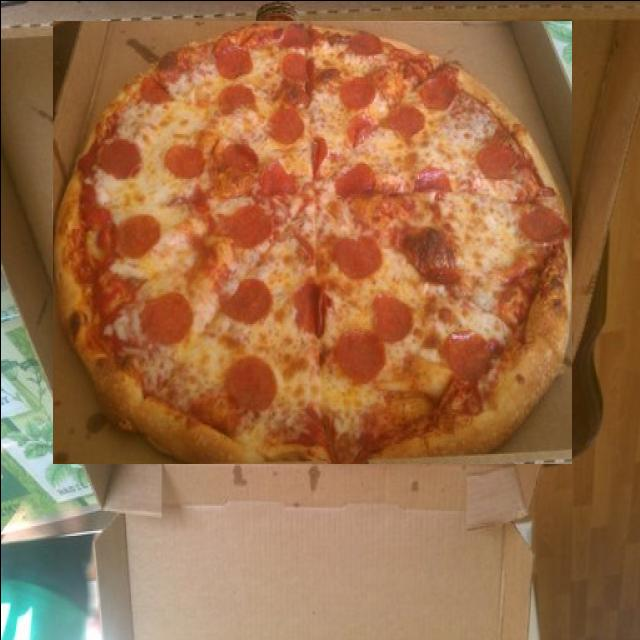pepperoni: (347, 74, 399, 127), (238, 100, 288, 154), (432, 140, 483, 190), (132, 105, 178, 153), (243, 205, 293, 249), (352, 161, 400, 204), (211, 141, 251, 189), (54, 241, 106, 277), (294, 150, 329, 202), (464, 226, 505, 269), (353, 236, 394, 278), (372, 405, 410, 447), (482, 307, 524, 344), (104, 302, 147, 338), (248, 285, 290, 321), (321, 340, 356, 377), (421, 304, 458, 338), (328, 288, 362, 322), (248, 376, 284, 408), (368, 369, 405, 400), (169, 374, 202, 408), (201, 348, 237, 378), (172, 292, 210, 319), (365, 310, 399, 340), (312, 401, 342, 433), (250, 336, 277, 370), (450, 378, 482, 406), (241, 430, 277, 452), (296, 308, 312, 348)
pizza: (52, 20, 571, 463)
